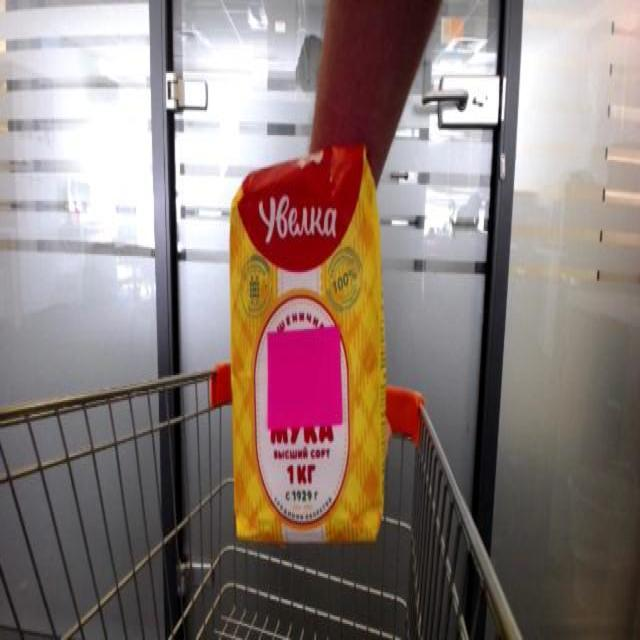Almond Milk: (226, 138, 393, 554)
